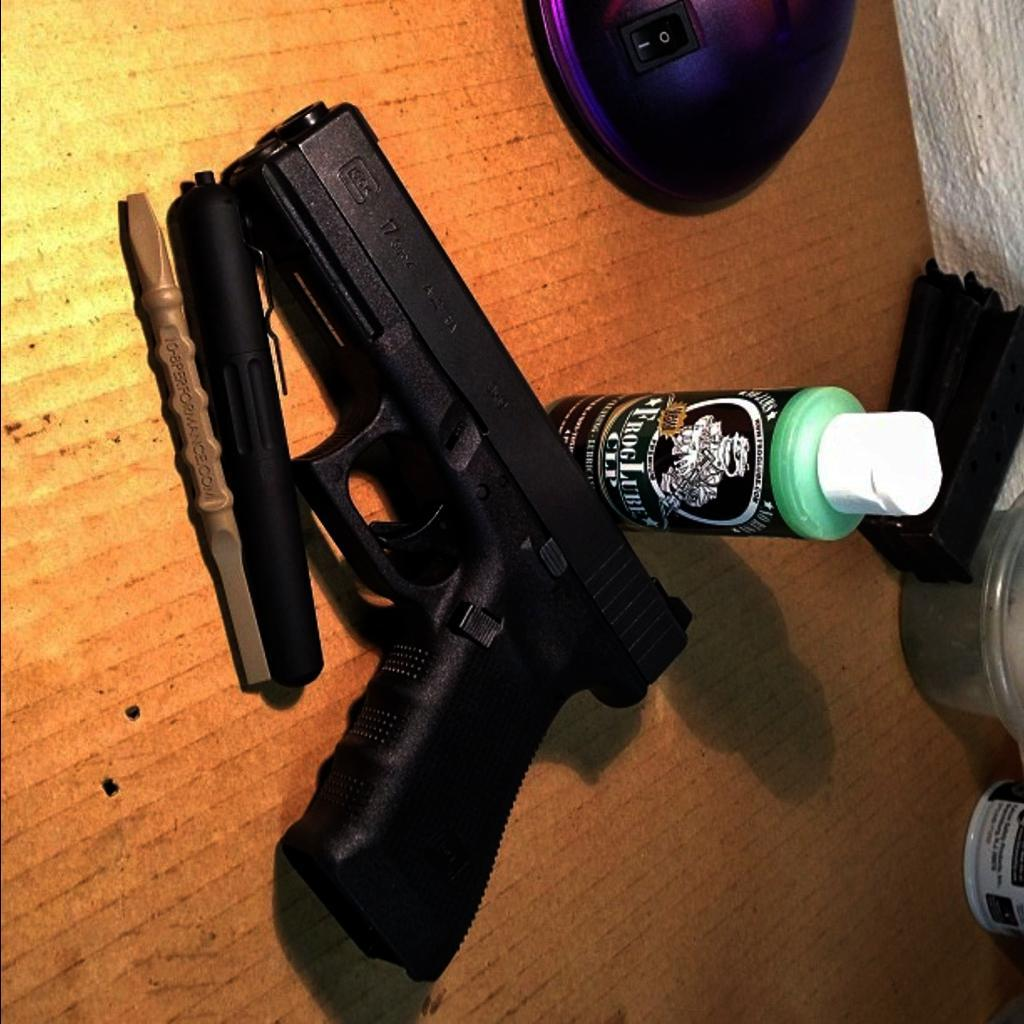gun: (230, 93, 684, 975)
